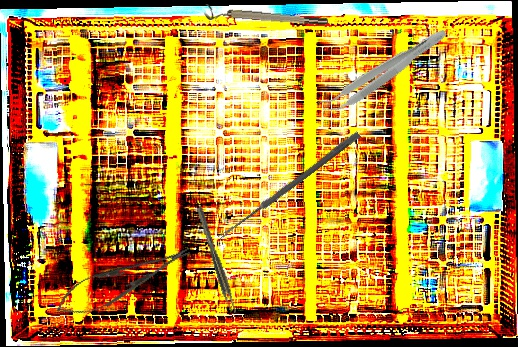Fixation Ring: (203, 3, 329, 33)
Needle Holder: (50, 235, 197, 326)
Surgical Spoon: (217, 130, 361, 242)
Tissue Forceps: (316, 19, 451, 122), (196, 205, 238, 316)
